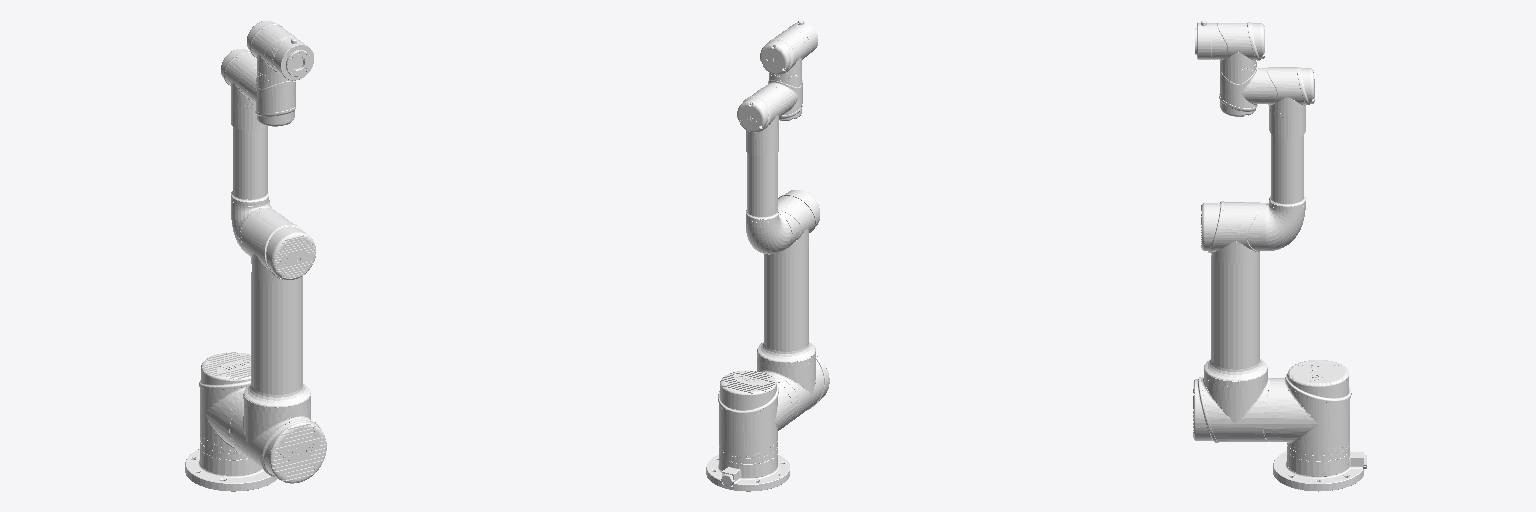
The robot description file, URDF, robot "aubo_i16":
<?xml version="1.0"?>
<robot name="aubo_i16">

  <link name="base_link">
    <inertial>
      <origin xyz="0.0 0.0028308 0.022423" rpy="0 0 0" />
      <mass value="1.3804" />
      <inertia ixx="0.0037534" ixy="0.0" ixz="0.0" iyy="0.0033643" iyz="0.0" izz="0.0064603" />
    </inertial>
    <visual>
      <origin xyz="0 0 0" rpy="0 0 0" />
      <geometry>
        <mesh filename="package://aubo_description/meshes/aubo_i16/visual/base_Link.DAE" />
      </geometry>
      <material name="">
        <color rgba="1 1 1 1" />
      </material>
    </visual>
    <collision>
      <origin xyz="0 0 0" rpy="0 0 0" />
      <geometry>
        <mesh filename="package://aubo_description/meshes/aubo_i16/collision/base_Link.STL" />
      </geometry>
    </collision>
  </link>

  <link name="shoulder_Link">
    <inertial>
      <origin xyz="0.0 0.12677 0.28186" rpy="0 0 0" />
      <mass value="7.1699" />
      <inertia ixx="0.63338" ixy="0.0" ixz="0.0" iyy="0.58429" iyz="-0.043514" izz="0.063992" />
    </inertial>
    <visual>
      <origin xyz="0 0 0" rpy="0 0 0" />
      <geometry>
        <mesh filename="package://aubo_description/meshes/aubo_i16/visual/shoulder_Link.DAE" />
      </geometry>
      <material name="">
        <color rgba="1 1 1 1" />
      </material>
    </visual>
    <collision>
      <origin xyz="0 0 0" rpy="0 0 0" />
      <geometry>
        <mesh filename="package://aubo_description/meshes/aubo_i16/collision/shoulder_Link.STL" />
      </geometry>
    </collision>
  </link>

  <joint name="shoulder_joint" type="revolute">
    <origin xyz="0 0 0.163" rpy="0 0 3.1416" />
    <parent link="base_link" />
    <child link="shoulder_Link" />
    <axis xyz="0 0 1" />
    <limit lower="-3.04" upper="3.04" effort="0" velocity="0" />
  </joint>

  <link name="upperArm_Link">
    <inertial>
      <origin xyz="0.243589520699327 0.0 0.00600111824205077" rpy="0 0 0" />
      <mass value="3.70827585534885" />
      <inertia ixx="0.00681728559415309" ixy="0.0" ixz="0.0" iyy="0.0397176571714556" iyz="0.0" izz="0.0397173271934915" />
    </inertial>
    <visual>
      <origin xyz="0 0 0" rpy="0 0 0" />
      <geometry>
        <mesh filename="package://aubo_description/meshes/aubo_i16/visual/upperArm_Link.DAE" />
      </geometry>
      <material name="">
        <color rgba="1 1 1 1" />
      </material>
    </visual>
    <collision>
      <origin xyz="0 0 0" rpy="0 0 0" />
      <geometry>
        <mesh filename="package://aubo_description/meshes/aubo_i16/collision/upperArm_Link.STL" />
      </geometry>
    </collision>
  </link>

  <joint name="upperArm_joint" type="revolute">
    <origin xyz="0 0.191 0" rpy="-1.5708 -1.5708 0" />
    <parent link="shoulder_Link" />
    <child link="upperArm_Link" />
    <axis xyz="0 0 1" />
    <limit lower="-3.04" upper="3.04" effort="0" velocity="0" />
  </joint>

  <link name="foreArm_Link">
    <inertial>
      <origin xyz="0.13154 0.0 0.11387" rpy="0 0 0" />
      <mass value="1.9726" />
      <inertia ixx="0.001838" ixy="0.0" ixz="-0.00099364" iyy="0.023606" iyz="0.0" izz="0.023656" />
    </inertial>
    <visual>
      <origin xyz="0 0 0" rpy="0 0 0" />
      <geometry>
        <mesh filename="package://aubo_description/meshes/aubo_i16/visual/foreArm_Link.DAE" />
      </geometry>
      <material name="">
        <color rgba="1 1 1 1" />
      </material>
    </visual>
    <collision>
      <origin xyz="0 0 0" rpy="0 0 0" />
      <geometry>
        <mesh filename="package://aubo_description/meshes/aubo_i16/collision/foreArm_Link.STL" />
      </geometry>
    </collision>
  </link>

  <joint name="foreArm_joint"
    type="revolute">
    <origin xyz="0.48008 0 0" rpy="-3.1416 0 0" />
    <parent link="upperArm_Link" />
    <child link="foreArm_Link" />
    <axis xyz="0 0 1" />
    <limit lower="-3.04" upper="3.04" effort="0" velocity="0" />
  </joint>

  <link name="wrist1_Link">
    <inertial>
      <origin xyz="0.0 -0.56814 -0.064233" rpy="0 0 0" />
      <mass value="7.1699" />
      <inertia ixx="0.63338" ixy="0.0" ixz="0.0" iyy="0.063992" iyz="-0.043514" izz="0.58429" />
    </inertial>
    <visual>
      <origin xyz="0 0 0" rpy="0 0 0" />
      <geometry>
        <mesh filename="package://aubo_description/meshes/aubo_i16/visual/wrist1_Link.DAE" />
      </geometry>
      <material name="">
        <color rgba="1 1 1 1" />
      </material>
    </visual>
    <collision>
      <origin xyz="0 0 0" rpy="0 0 0" />
      <geometry>
        <mesh filename="package://aubo_description/meshes/aubo_i16/collision/wrist1_Link.STL" />
      </geometry>
    </collision>
  </link>

  <joint name="wrist1_joint" type="revolute">
    <origin xyz="0.36992 0 0" rpy="3.1416 0 1.5708" />       
    <parent link="foreArm_Link" />
    <child link="wrist1_Link" />
    <axis xyz="0 0 1" />
    <limit lower="-3.04" upper="3.04" effort="0" velocity="0" />
  </joint>

  <link name="wrist2_Link">
    <inertial>
      <origin xyz="0.0 0.064233 -0.68564" rpy="0 0 0" />
      <mass value="7.1699" />
      <inertia ixx="0.63338" ixy="0.0" ixz="0.0" iyy="0.58429" iyz="0.043514" izz="0.063992" />
    </inertial>
    <visual>
      <origin xyz="0 0 0" rpy="0 0 0" />
      <geometry>
        <mesh filename="package://aubo_description/meshes/aubo_i16/visual/wrist2_Link.DAE" />
      </geometry>
      <material name="">
        <color rgba="1 1 1 1" />
      </material>
    </visual>
    <collision>
      <origin xyz="0 0 0" rpy="0 0 0" />
      <geometry>
        <mesh filename="package://aubo_description/meshes/aubo_i16/collision/wrist2_Link.STL" />
      </geometry>
    </collision>
  </link>

  <joint name="wrist2_joint" type="revolute">
    <origin xyz="0 0.1175 0" rpy="-1.5708 0 0" />
    <parent link="wrist1_Link" />
    <child link="wrist2_Link" />
    <axis xyz="0 0 1" />
    <limit lower="-3.04" upper="3.04" effort="0" velocity="0" />
  </joint>

  <link name="wrist3_Link">
    <inertial>
      <origin xyz="0.0 0.00054964 -0.017144" rpy="0 0 0" />
      <mass value="0.10863" />
      <inertia ixx="0.0" ixy="0.0" ixz="0.0" iyy="0.0" iyz="0.0" izz="0.00013551" />
    </inertial>
    <visual>
      <origin xyz="0 0 0" rpy="0 0 0" />
      <geometry>
        <mesh filename="package://aubo_description/meshes/aubo_i16/visual/wrist3_Link.DAE" />
      </geometry>
      <material name="">
        <color rgba="1 1 1 1" />
      </material>
    </visual>
    <collision>
      <origin xyz="0 0 0" rpy="0 0 0" />
      <geometry>
        <mesh filename="package://aubo_description/meshes/aubo_i16/collision/wrist3_Link.STL" />
      </geometry>
    </collision>
  </link>

  <joint name="wrist3_joint" type="revolute">
    <origin xyz="0 -0.1035 0" rpy="1.5708 0 0" />
    <parent link="wrist2_Link" />
    <child link="wrist3_Link" />
    <axis xyz="0 0 1" />
    <limit lower="-3.04" upper="3.04" effort="0" velocity="0" />
  </joint>

 <link name="world" />

  <joint name="world_joint" type="fixed">
    <parent link="world" />
    <child link = "base_link" />
    <origin xyz="0.0 0.0 0.0" rpy="0.0 0.0 0.0" />
  </joint>

</robot>

--- What the picture shows (computed from the rendered views, not written in the file) ---
3 views of the same robot in one strip: view 1: azimuth 30°, elevation 25°; view 2: azimuth 150°, elevation 25°; view 3: azimuth 270°, elevation 25° (orthographic).
Robot: aubo_i16 — 8 links, 7 joints (6 revolute, 1 fixed); root link world; default pose: every joint at zero.
Links seen in each view (by area): view 1: upperArm_Link, foreArm_Link, shoulder_Link, base_link, wrist1_Link, wrist2_Link, wrist3_Link; view 2: upperArm_Link, foreArm_Link, shoulder_Link, base_link, wrist2_Link, wrist1_Link; view 3: upperArm_Link, foreArm_Link, shoulder_Link, base_link, wrist2_Link, wrist1_Link, wrist3_Link.
Link boxes in pixels (<box>): upperArm_Link: <box>226,209,326,483</box>; foreArm_Link: <box>221,49,274,248</box>; shoulder_Link: <box>199,352,250,460</box>; base_link: <box>185,449,277,491</box>; wrist1_Link: <box>238,68,295,126</box>; wrist2_Link: <box>247,21,299,86</box>; wrist3_Link: <box>274,38,313,80</box>; upperArm_Link: <box>757,190,829,427</box>; foreArm_Link: <box>737,84,791,254</box>; shoulder_Link: <box>718,371,791,463</box>; base_link: <box>706,454,789,491</box>; wrist2_Link: <box>760,26,811,76</box>; wrist1_Link: <box>751,72,802,120</box>; upperArm_Link: <box>1193,201,1277,442</box>; foreArm_Link: <box>1261,67,1314,250</box>; shoulder_Link: <box>1278,360,1351,461</box>; base_link: <box>1273,448,1366,491</box>; wrist2_Link: <box>1211,22,1264,83</box>; wrist1_Link: <box>1219,61,1276,116</box>; wrist3_Link: <box>1195,21,1210,59</box>.
Bounding box of the posed robot: 0.218 × 0.4125 × 1.18 m (x, y, z).
Meshes: 7 distinct files referenced, 7 mesh visuals loaded (7 Collada DAE).